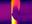Hotspot: (11, 14, 17, 23)
